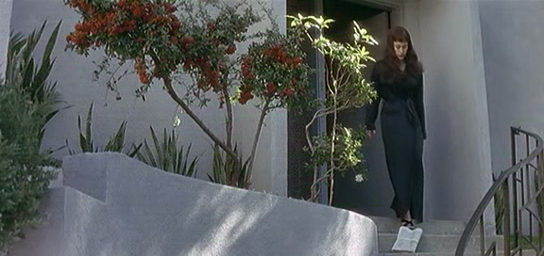face: (394, 41, 407, 60)
ls: (1, 1, 544, 256)
person: (365, 26, 426, 231)
